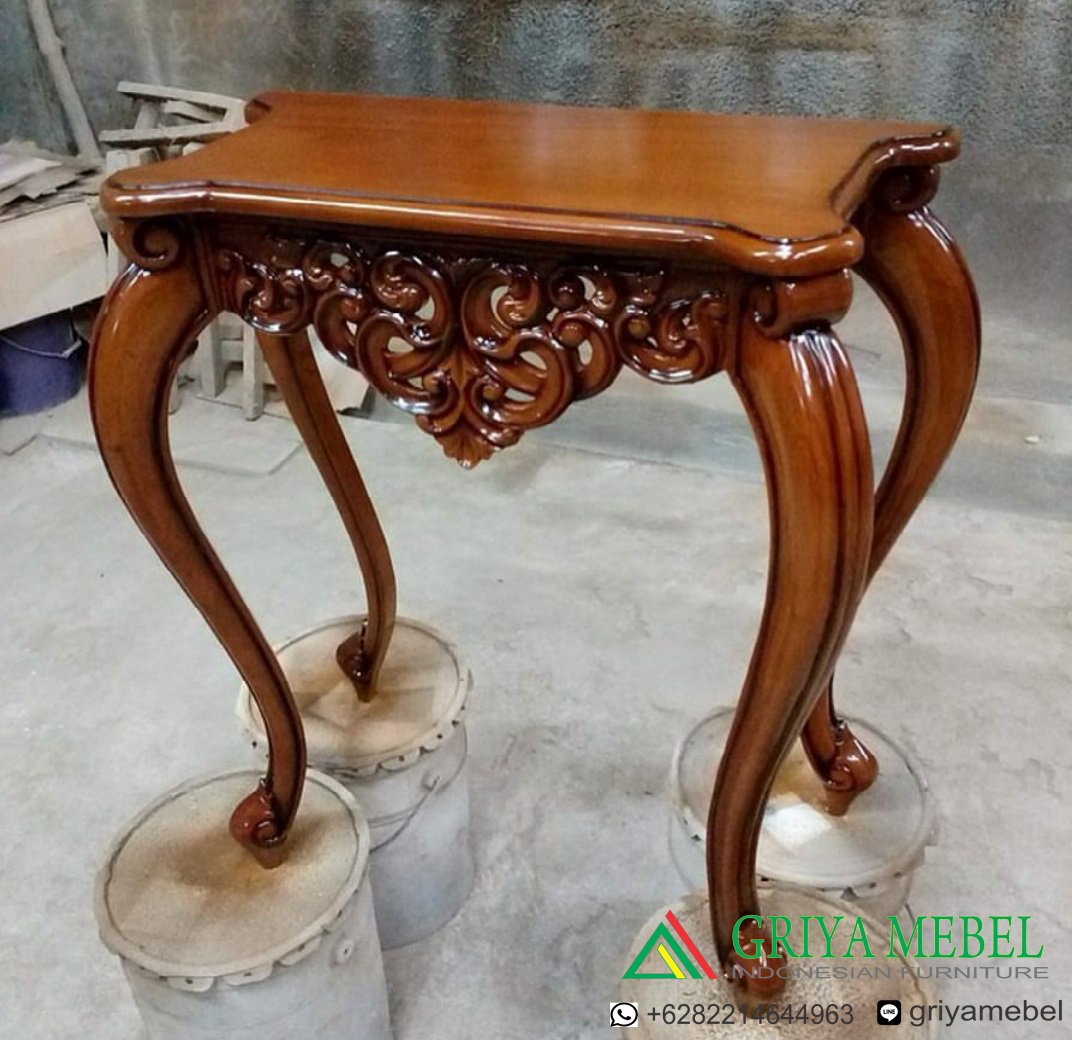Carving Table: (88, 88, 966, 980)
